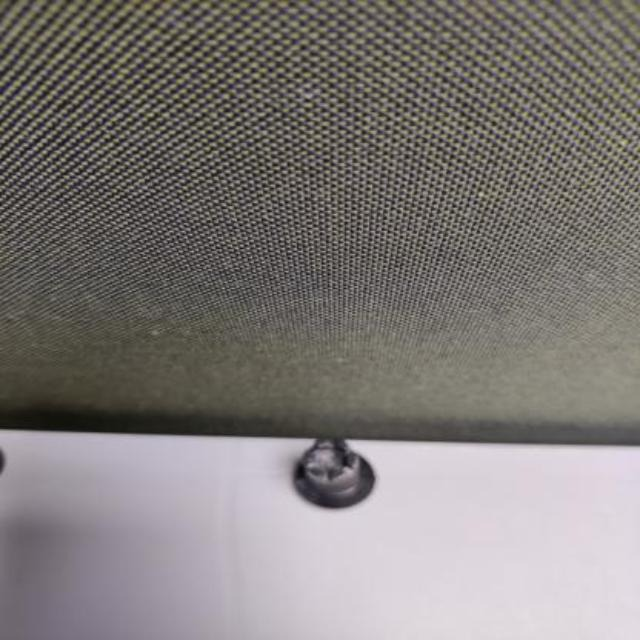black-rook: (290, 436, 378, 508)
